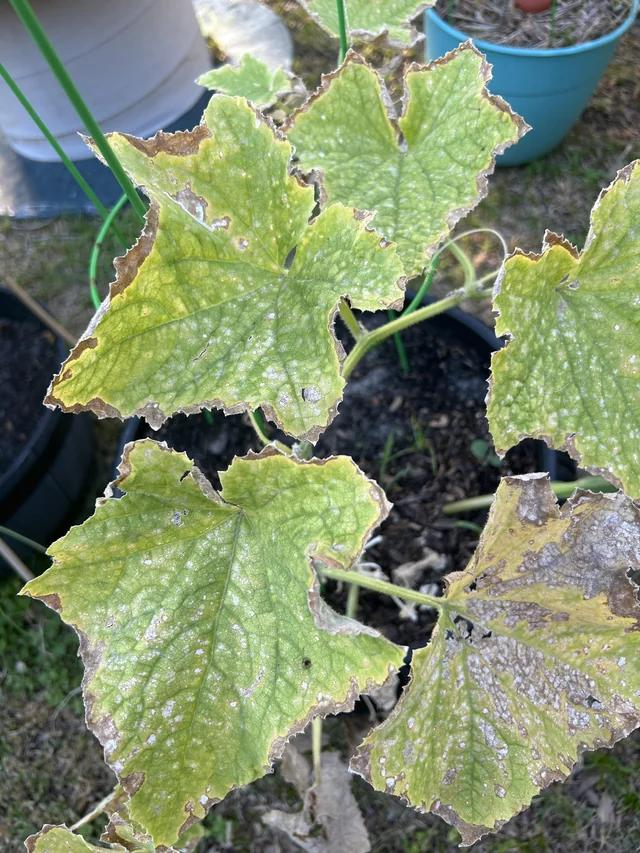root_rot: (53, 49, 640, 853)
